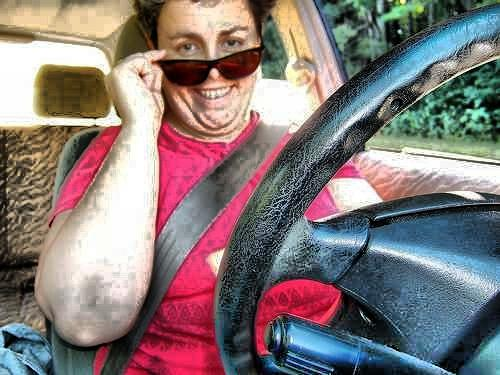seatbelt: (82, 108, 305, 359)
